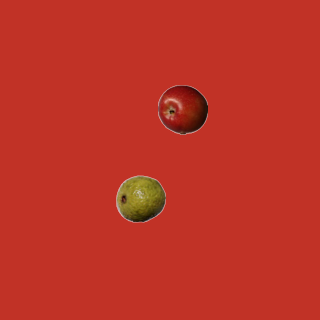Apple Braeburn: (157, 84, 207, 134)
Guava: (115, 173, 165, 223)
